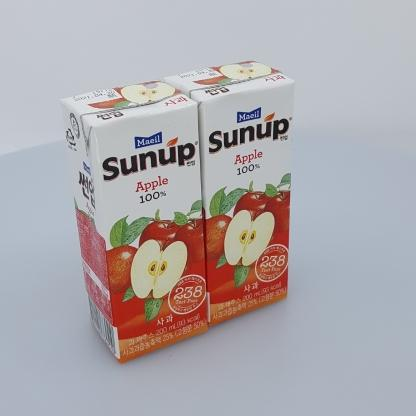-----------200ML: (60, 79, 208, 364), (163, 59, 295, 326)
